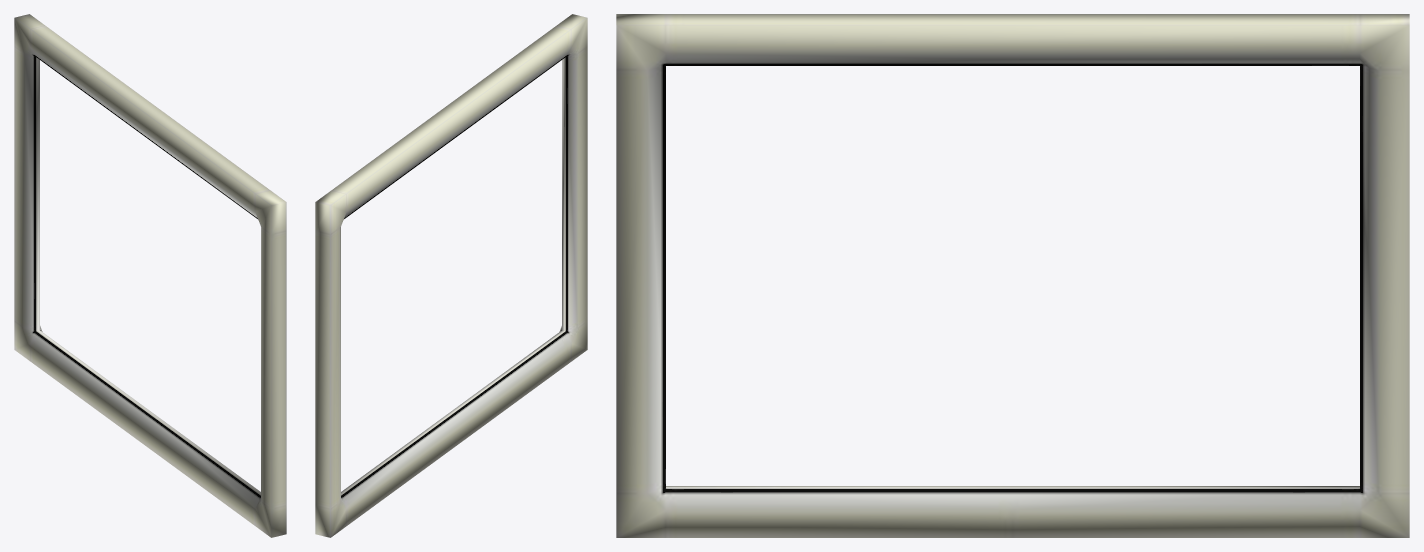
File: window_1.obj
3 renders of one model, left to right at view 1: azimuth 30°, elevation 25°; view 2: azimuth 150°, elevation 25°; view 3: azimuth 270°, elevation 25°, orthographic. The views are drawn at different scales.
Visible parts, largest first — view 1: window_1; view 2: window_1; view 3: window_1.
Boxes of the visible parts, x1,y1,x2,y2 form: window_1: [14, 14, 286, 537]; window_1: [315, 14, 587, 537]; window_1: [616, 14, 1409, 537].
Size of the model in its own units: 0.4791 by 10.01 by 14.04.
Materials: 1 (1 with a texture image).
